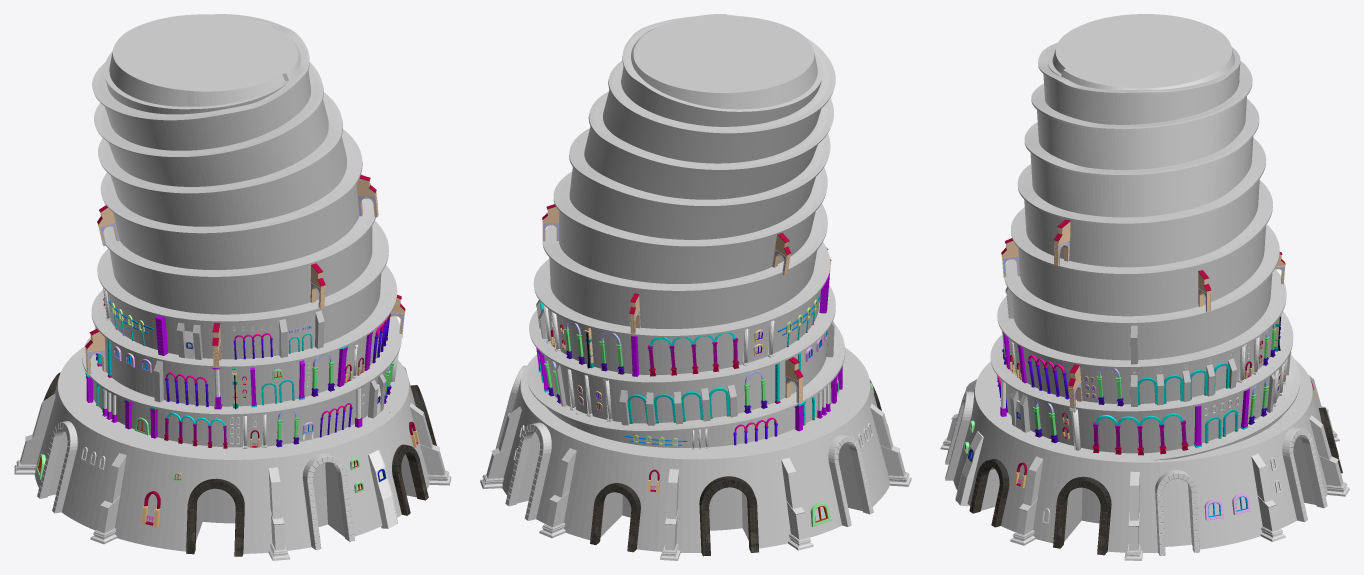
Rendered from Phase 2.fbx.
3 renders of one model, left to right at view 1: azimuth 30°, elevation 25°; view 2: azimuth 150°, elevation 25°; view 3: azimuth 270°, elevation 25°, orthographic. The views are drawn at different scales.
Visible parts, largest first — view 1: Spiral.010, Cylinder.039, Circle.005, Circle.036, Circle.037, Cube.108, Circle.030, Cube.063, Cube.107, Cube.110, Cube.109, Cube.129 (+3 smaller); view 2: Spiral.010, Cylinder.039, Circle.033, Circle.036, Circle.035, Cube.104, Circle.034, Cube.107, Cube.076, Cube.108, Cube.105, Cube.194 (+1 smaller); view 3: Spiral.010, Cylinder.039, Circle.033, Circle.016, Circle.032, Cube.063, Cube.076, Circle.030, Cube.104, Circle.005, Cube.119, Cube.064 (+3 smaller).
Boxes of the visible parts, left/top/right/bottom form: Spiral.010: left=82, top=14, right=401, bottom=447; Cylinder.039: left=34, top=347, right=429, bottom=553; Circle.005: left=302, top=453, right=354, bottom=549; Circle.036: left=37, top=421, right=77, bottom=513; Circle.037: left=186, top=478, right=244, bottom=556; Cube.108: left=90, top=453, right=126, bottom=544; Circle.030: left=392, top=444, right=428, bottom=515; Cube.063: left=409, top=403, right=451, bottom=485; Cube.107: left=14, top=393, right=55, bottom=474; Cube.110: left=368, top=449, right=398, bottom=528; Cube.109: left=268, top=467, right=290, bottom=560; Cube.129: left=164, top=412, right=227, bottom=448; Spiral.010: left=527, top=14, right=845, bottom=447; Cylinder.039: left=502, top=347, right=889, bottom=552; Circle.033: left=505, top=422, right=551, bottom=520; Circle.036: left=828, top=434, right=873, bottom=526; Circle.035: left=699, top=476, right=758, bottom=556; Cube.104: left=539, top=448, right=576, bottom=538; Circle.034: left=590, top=483, right=640, bottom=552; Cube.107: left=781, top=457, right=813, bottom=550; Cube.076: left=480, top=406, right=521, bottom=488; Cube.108: left=870, top=403, right=911, bottom=486; Cube.105: left=660, top=469, right=680, bottom=560; Cube.194: left=647, top=332, right=739, bottom=376; Spiral.010: left=990, top=14, right=1300, bottom=460; Cylinder.039: left=953, top=359, right=1327, bottom=552; Circle.033: left=1282, top=427, right=1327, bottom=521; Circle.016: left=1053, top=476, right=1111, bottom=555; Circle.032: left=1155, top=470, right=1199, bottom=555; Cube.063: left=1010, top=456, right=1043, bottom=545; Cube.076: left=1251, top=453, right=1285, bottom=541; Circle.030: left=969, top=459, right=1009, bottom=527; Cube.104: left=1309, top=415, right=1349, bottom=496; Circle.005: left=945, top=391, right=973, bottom=480; Cube.119: left=1092, top=413, right=1188, bottom=455; Cube.064: left=1124, top=471, right=1142, bottom=560.
Size of the model in its own units: 26819 by 29704 by 26836.
